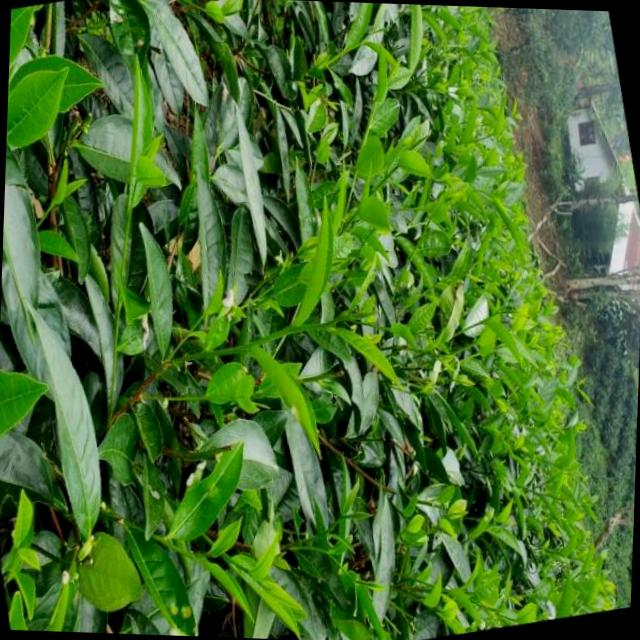Stem: (320, 323, 329, 328), (188, 552, 194, 556), (326, 549, 331, 553), (243, 567, 248, 570), (359, 41, 362, 44), (495, 310, 498, 313)
